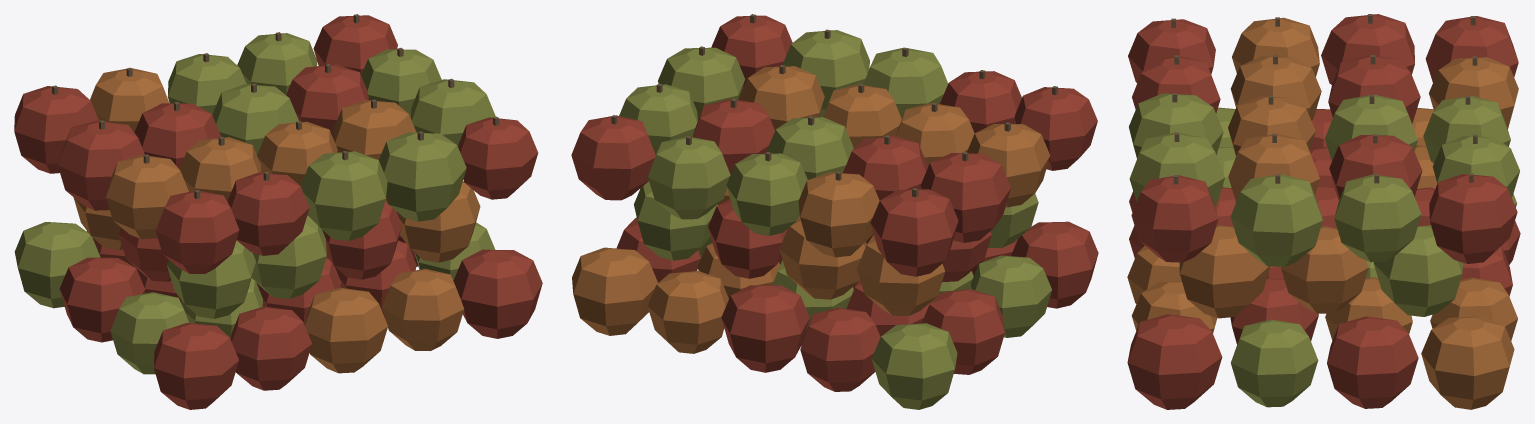
The model's file is OrchardLot.glb.
3 views of the same model, side by side, from view 1: azimuth 30°, elevation 25°; view 2: azimuth 150°, elevation 25°; view 3: azimuth 270°, elevation 25° (orthographic). The views are drawn at different scales.
Parts seen in each view (by area): view 1: OrchardLot; view 2: OrchardLot; view 3: OrchardLot.
Part boxes in pixels (box(x1,y1,x2,y2)): OrchardLot: box(14, 14, 542, 409); OrchardLot: box(571, 14, 1098, 409); OrchardLot: box(1127, 14, 1520, 409).
Size of the model in its own units: 0.6921 by 0.3726 by 0.5792.
